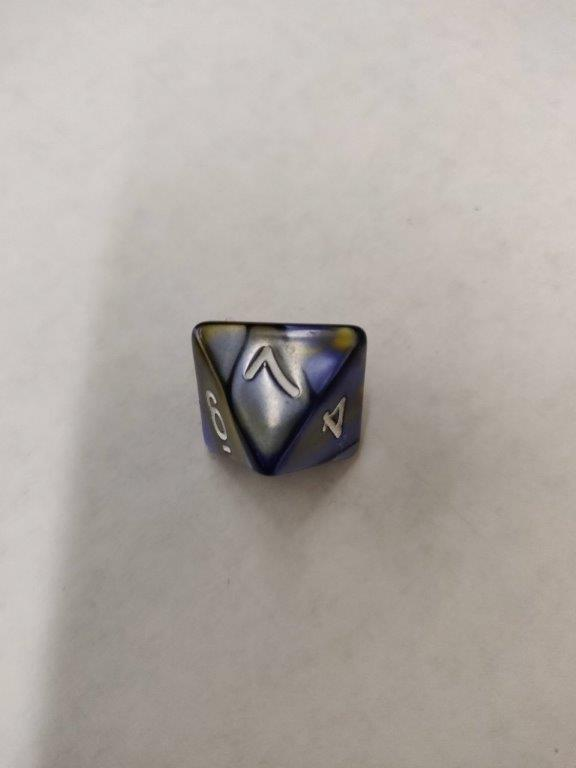d8-7: (192, 321, 366, 468)
